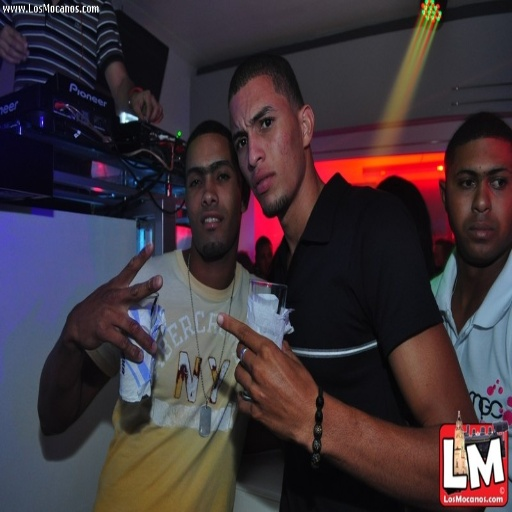hand: (48, 260, 161, 402), (215, 309, 322, 439), (0, 23, 30, 68), (131, 87, 164, 124)
